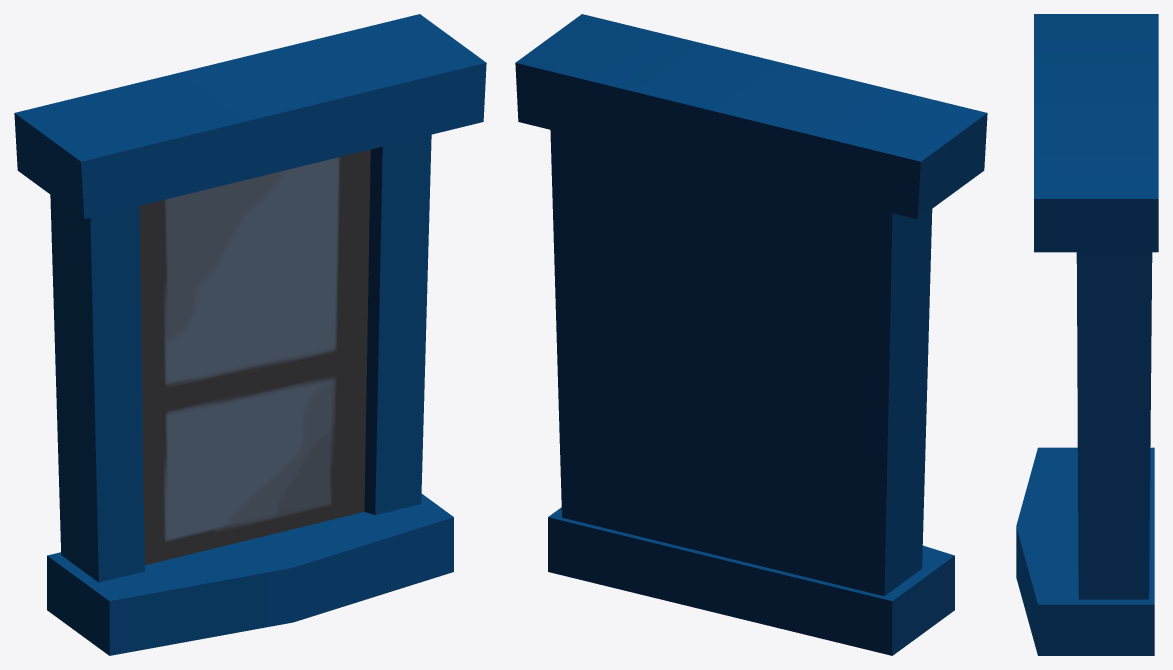
File: Window_A04.fbx
3 views of the same model, side by side, from view 1: azimuth 30°, elevation 25°; view 2: azimuth 150°, elevation 25°; view 3: azimuth 270°, elevation 25° (orthographic). The views are drawn at different scales.
Visible parts, largest first — view 1: Window_A04; view 2: Window_A04; view 3: Window_A04.
Part boxes in pixels (<box>): Window_A04: <box>14,14,486,655</box>; Window_A04: <box>515,14,987,655</box>; Window_A04: <box>1016,14,1158,655</box>.
Bounding box in the file's own units: 158 × 187 × 51.42.
Materials: 1 (1 with a texture image).
